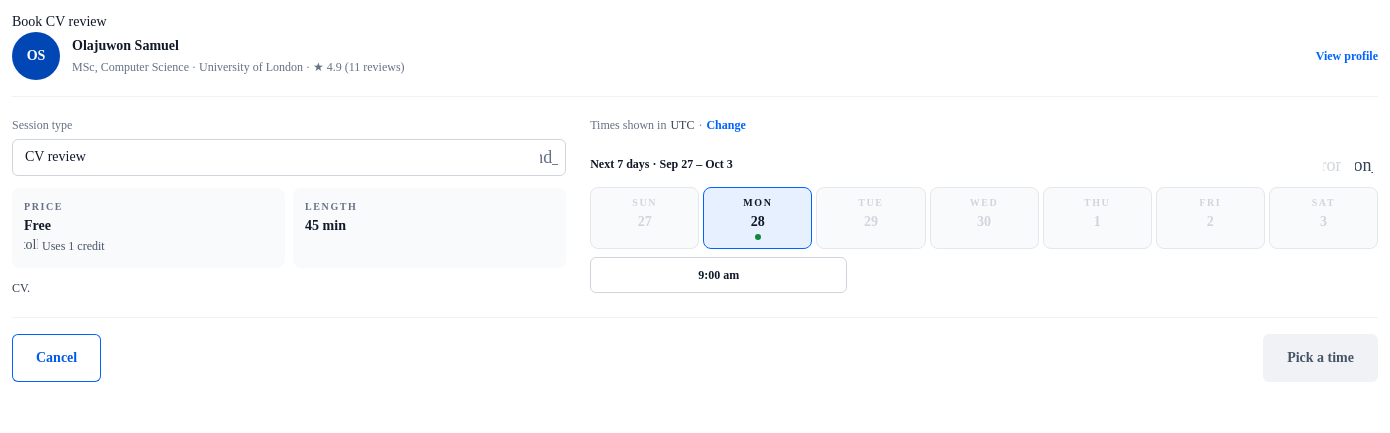
it: BookingFlow week view (7 days at a time) › an empty week after the open ones says to try earlier dates
Click the button with aria-label "Later dates": (1364, 165) top-left (1350, 151), bottom-right (1378, 179)
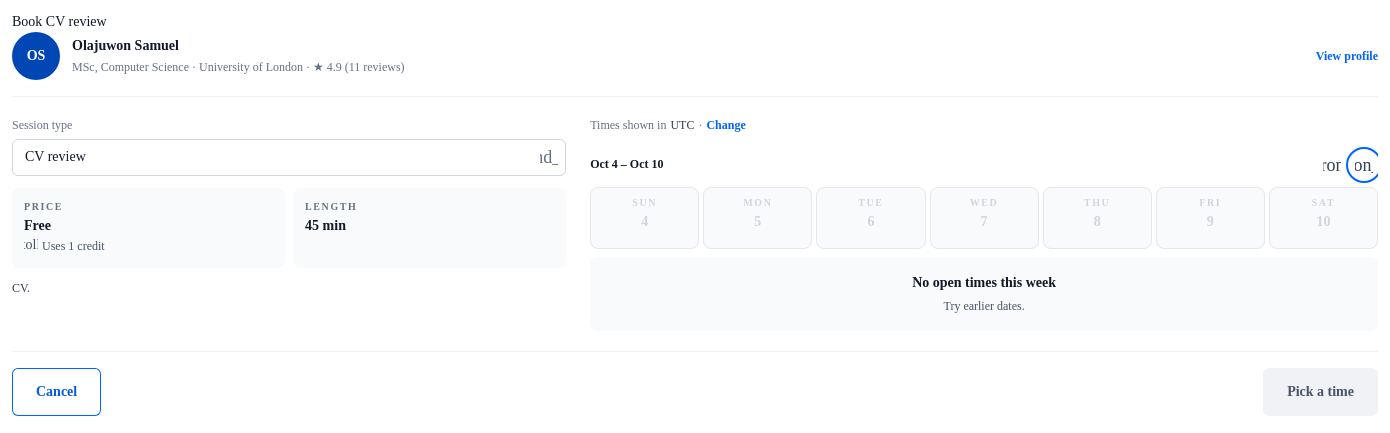
Expected: the text "Try earlier dates." is shown, top-left (944, 298), bottom-right (1025, 315)
